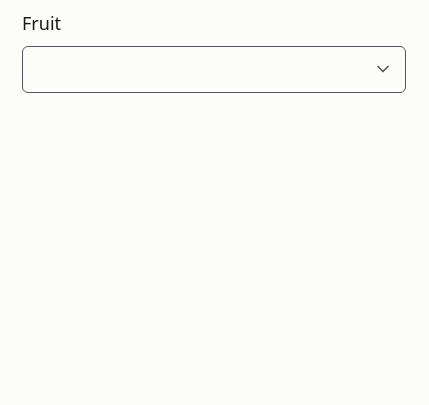
Scenario: multiple selection › toggles options and keeps the popup open
Later steps or results of the test are not shown.
Click the dropdown at (192, 69), box [23, 47, 361, 92]
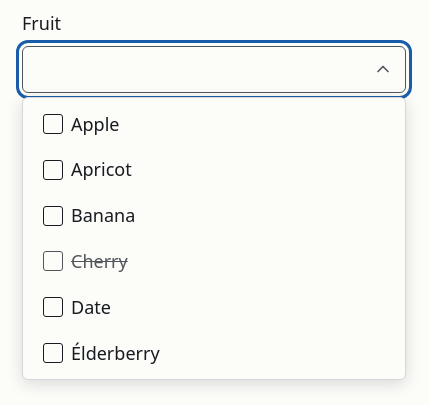
Click the option "Apple" at (81, 124), box [43, 112, 120, 136]
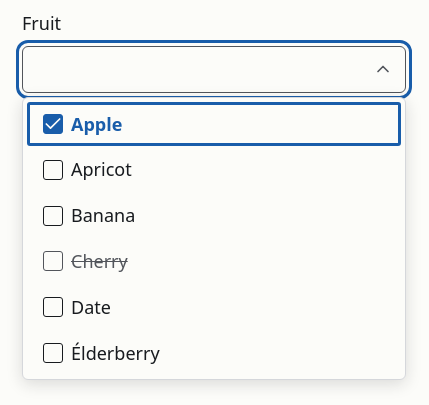
Click the option "Banana" at (89, 215), box [43, 203, 135, 227]
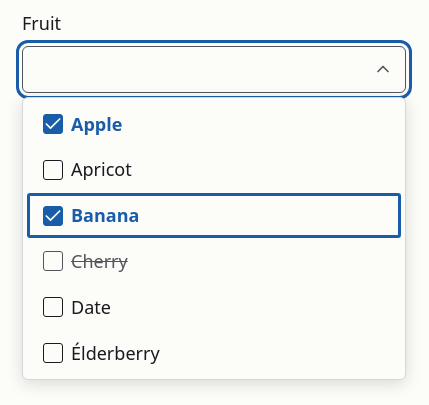
Check: the option "Apple" is selected, box [43, 112, 122, 136]
